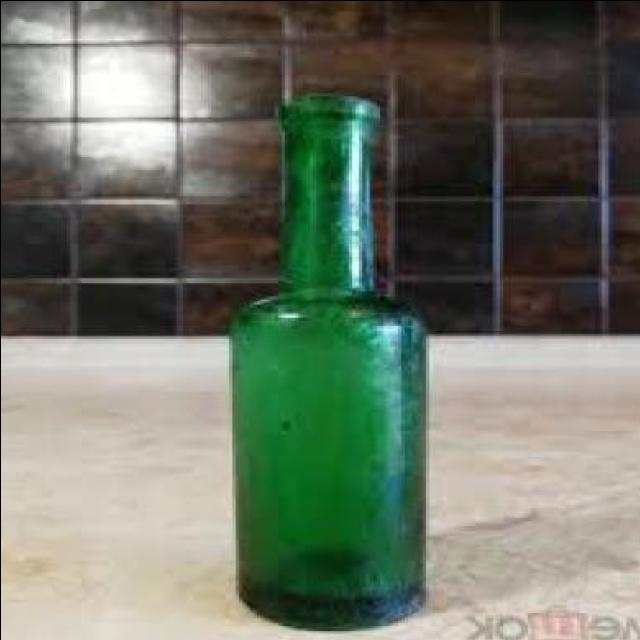kaca: (234, 90, 428, 625)
